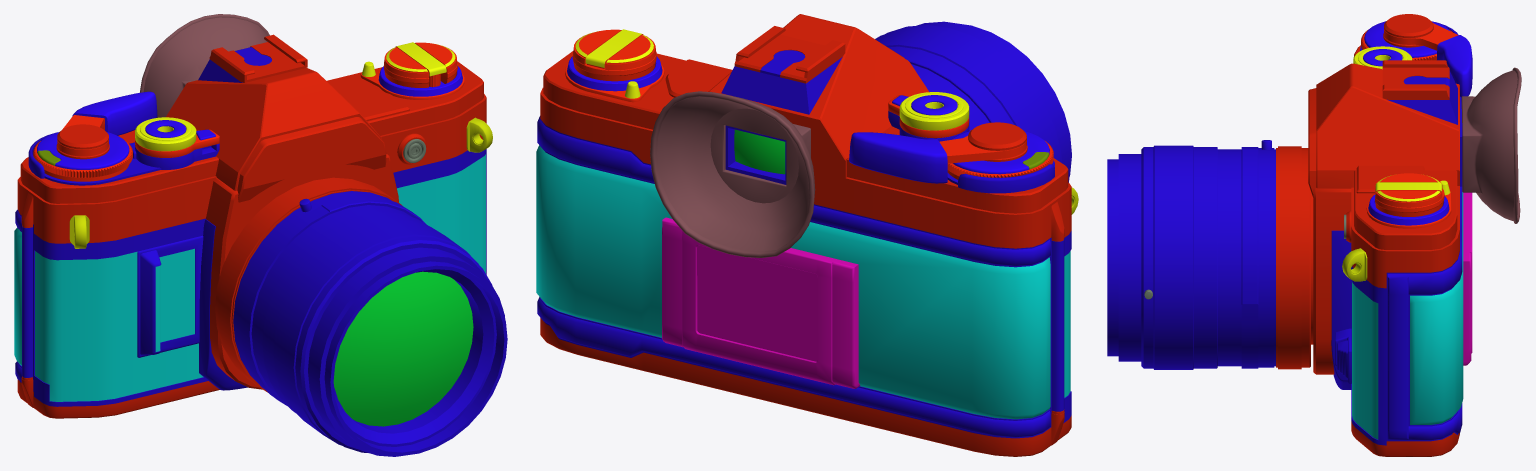
Rendered from canon_AT-1-2.glb.
3 views of the same model, side by side, from view 1: azimuth 30°, elevation 25°; view 2: azimuth 150°, elevation 25°; view 3: azimuth 270°, elevation 25° (orthographic). The views are drawn at different scales.
Visible parts, largest first — view 1: #CAM0001_Body, #CAM0001_Film_Advance, #CAM0001_Spool, #CAM0001_Shutter_Speed, #CAM0001_Shutter, #CAM0001_Battery_Check; view 2: #CAM0001_Body, #CAM0001_Film_Advance, #CAM0001_Spool, #CAM0001_Shutter, #CAM0001_Shutter_Speed, #CAM0001_Battery_Check; view 3: #CAM0001_Body, #CAM0001_Spool, #CAM0001_Film_Advance, #CAM0001_Battery_Check, #CAM0001_Shutter_Speed, #CAM0001_Shutter.
Part boxes in pixels (left/top/right/bottom): #CAM0001_Body: left=14, top=14, right=507, bottom=456; #CAM0001_Film_Advance: left=57, top=91, right=157, bottom=156; #CAM0001_Spool: left=383, top=42, right=457, bottom=87; #CAM0001_Shutter_Speed: left=33, top=132, right=132, bottom=181; #CAM0001_Shutter: left=135, top=117, right=219, bottom=157; #CAM0001_Battery_Check: left=360, top=61, right=464, bottom=99; #CAM0001_Body: left=536, top=14, right=1078, bottom=456; #CAM0001_Film_Advance: left=849, top=132, right=1026, bottom=183; #CAM0001_Spool: left=572, top=29, right=656, bottom=81; #CAM0001_Shutter: left=888, top=92, right=969, bottom=138; #CAM0001_Shutter_Speed: left=947, top=131, right=1053, bottom=179; #CAM0001_Battery_Check: left=565, top=56, right=664, bottom=102; #CAM0001_Body: left=1107, top=14, right=1521, bottom=456; #CAM0001_Spool: left=1375, top=173, right=1444, bottom=216; #CAM0001_Film_Advance: left=1384, top=23, right=1472, bottom=97; #CAM0001_Battery_Check: left=1366, top=180, right=1451, bottom=228; #CAM0001_Shutter_Speed: left=1361, top=21, right=1452, bottom=60; #CAM0001_Shutter: left=1353, top=46, right=1412, bottom=69.
Bounding box in the file's own units: 0.1439 × 0.0898 × 0.1182.
